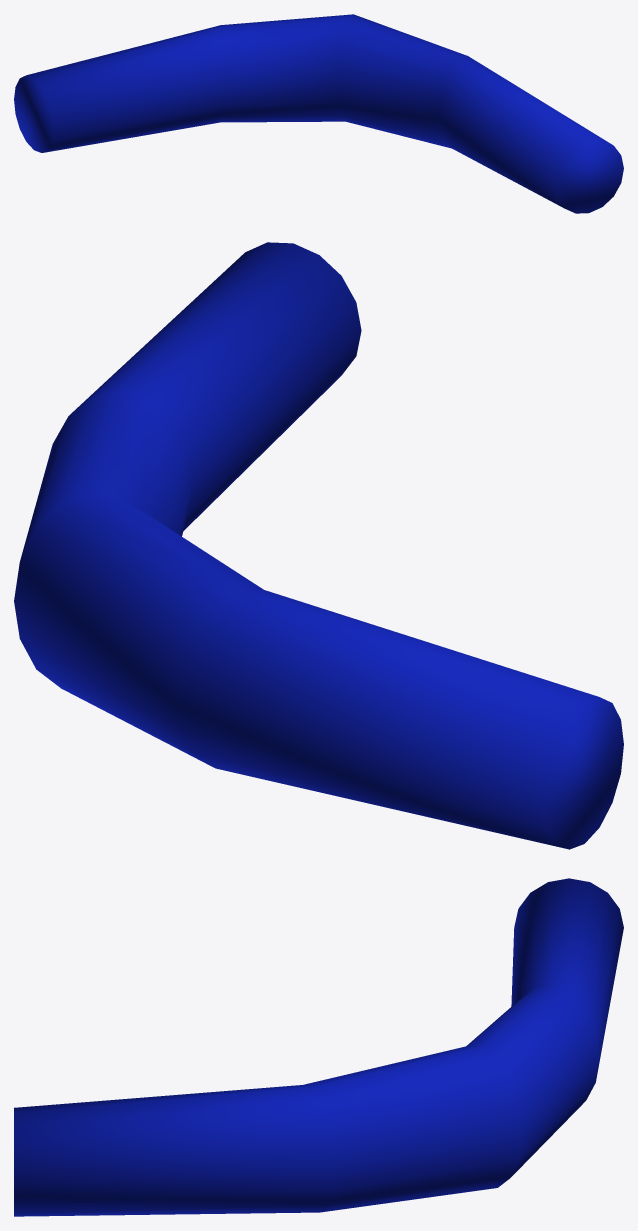
File: cableBlue2.glb
3 views of the same model, one above another, from view 1: azimuth 30°, elevation 25°; view 2: azimuth 150°, elevation 25°; view 3: azimuth 270°, elevation 25° (orthographic). The views are drawn at different scales.
Parts seen in each view (by area): view 1: cableBlue2; view 2: cableBlue2; view 3: cableBlue2.
Boxes of the visible parts, x1,y1,x2,y2 form: cableBlue2: (14,14,623,213); cableBlue2: (14,242,623,849); cableBlue2: (14,878,623,1216).
Bounding box in the file's own units: 1 × 0.2533 × 1.
